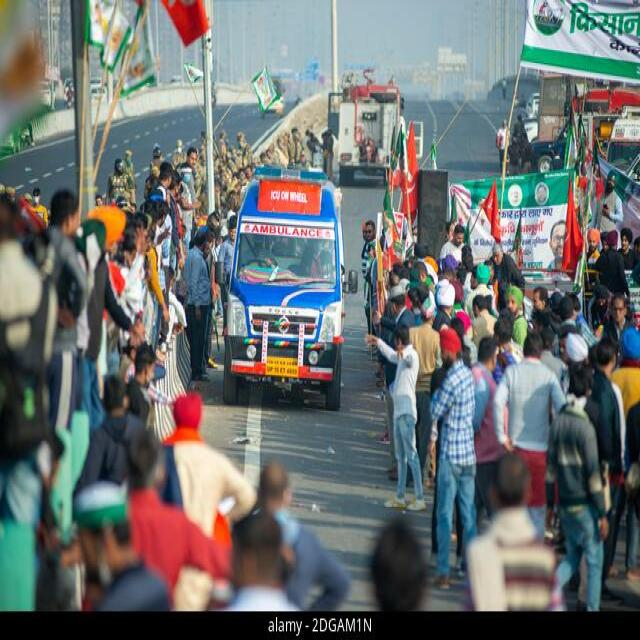emergency: (222, 168, 358, 409)
